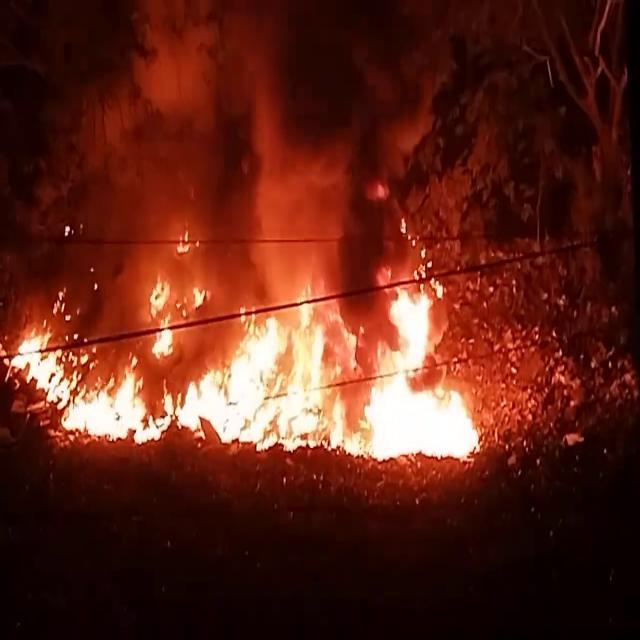Fire: (6, 262, 489, 459)
Smoke: (2, 1, 390, 300)
